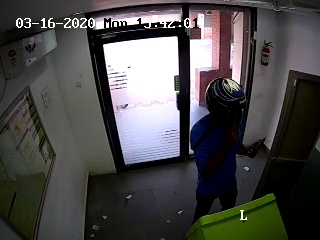helmet: (198, 75, 254, 125)
